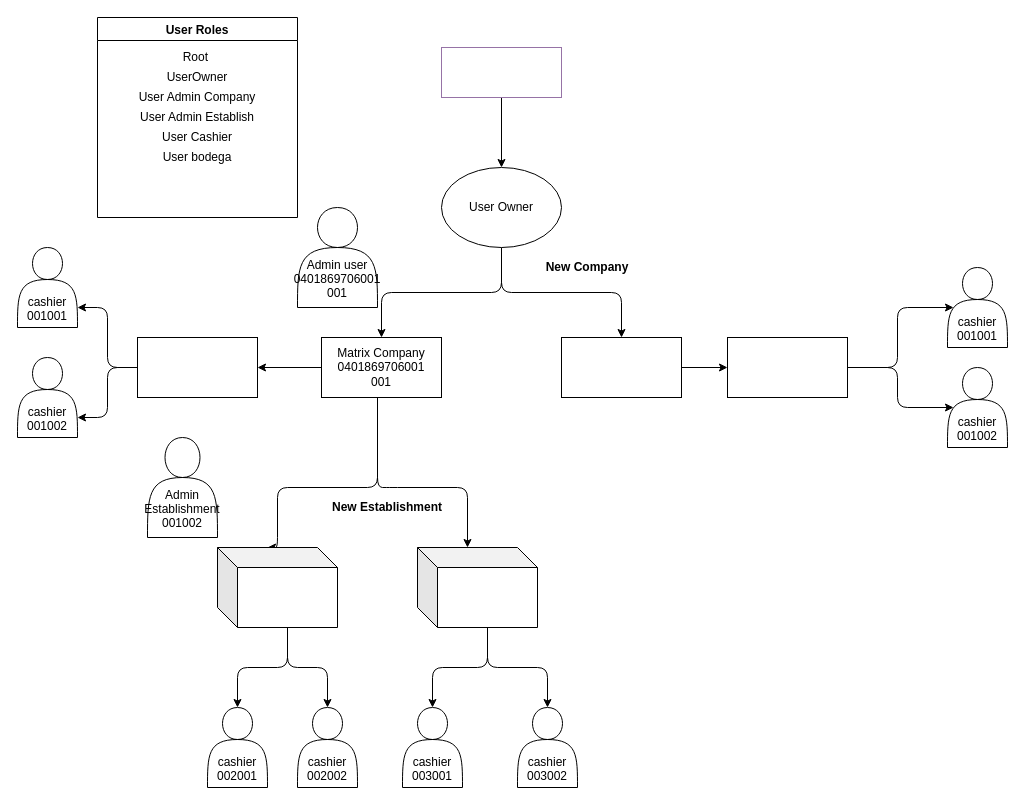
Some shapes in this 1025 by 805 pixel diagram are drawn without their labels. Here are the shapes that lost their labels. From the top down, the centre of each, then its label:
pixel 501 72: Root -> Me
pixel 197 367: Establishment 1 0401869706001 001
pixel 621 367: Matrix Company 0401869707001 001
pixel 787 367: Establishment 1 0401869707001 001
pixel 277 587: Establishment 2 0401869706001 002
pixel 477 587: Establishment 3 0401869706001 003
